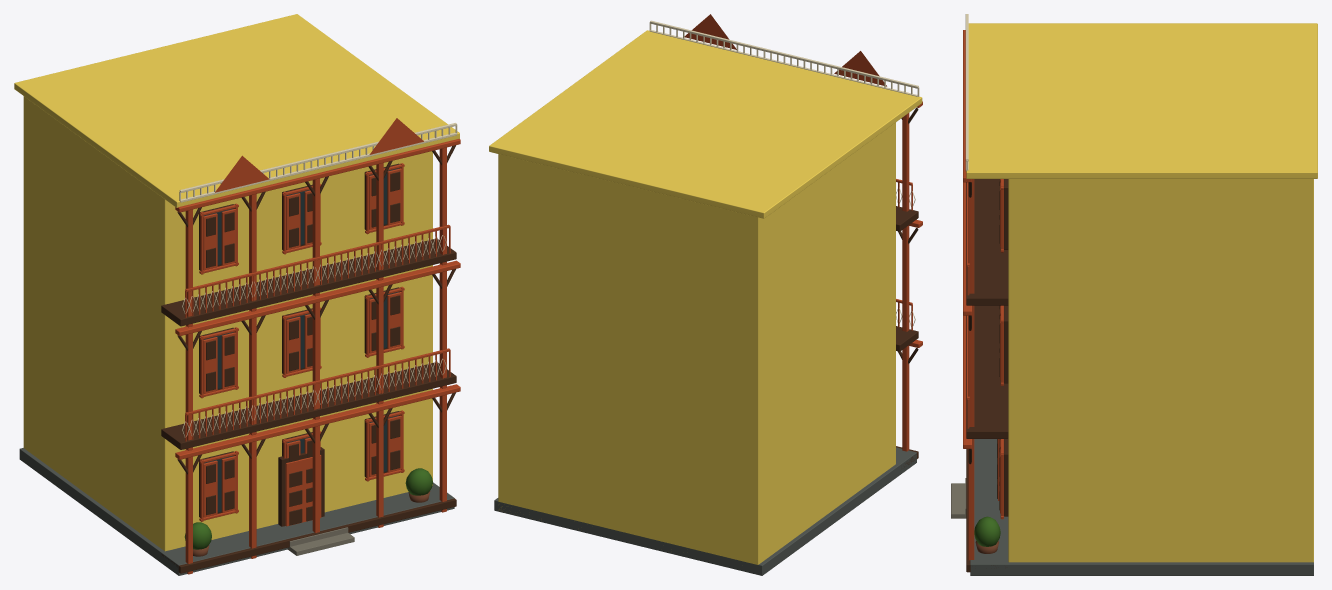
File: ornate-wada.glb
3 renders of one model, left to right at view 1: azimuth 30°, elevation 25°; view 2: azimuth 150°, elevation 25°; view 3: azimuth 270°, elevation 25°, orthographic. The views are drawn at different scales.
Visible parts, largest first — view 1: Surface_Lime_plaster, Surface_Painted_joinery, Surface_Timber, Surface_Basalt, Surface_Trim, Surface_Recessed_glazing, Surface_Foliage, Surface_Stone_paving; view 2: Surface_Lime_plaster, Surface_Basalt, Surface_Painted_joinery, Surface_Trim, Surface_Timber; view 3: Surface_Lime_plaster, Surface_Timber, Surface_Basalt, Surface_Painted_joinery, Surface_Foliage, Surface_Trim, Surface_Stone_paving.
Part boxes in pixels (<box>): Surface_Lime_plaster: <box>14,14,459,551</box>; Surface_Painted_joinery: <box>175,118,460,574</box>; Surface_Timber: <box>161,145,456,573</box>; Surface_Basalt: <box>19,448,454,575</box>; Surface_Trim: <box>179,123,457,437</box>; Surface_Recessed_glazing: <box>204,168,398,512</box>; Surface_Foliage: <box>184,468,432,549</box>; Surface_Stone_paving: <box>287,527,354,555</box>; Surface_Lime_plaster: <box>489,30,922,564</box>; Surface_Basalt: <box>494,447,916,575</box>; Surface_Painted_joinery: <box>684,14,922,451</box>; Surface_Trim: <box>649,20,919,327</box>; Surface_Timber: <box>896,108,918,467</box>; Surface_Lime_plaster: <box>966,23,1317,562</box>; Surface_Timber: <box>966,179,1008,572</box>; Surface_Basalt: <box>970,439,1313,575</box>; Surface_Painted_joinery: <box>963,30,1003,560</box>; Surface_Foliage: <box>974,516,1000,546</box>; Surface_Trim: <box>965,14,968,171</box>; Surface_Stone_paving: <box>951,478,966,518</box>.
Bounding box in the file's own units: 9.24 × 12.7 × 9.6.
